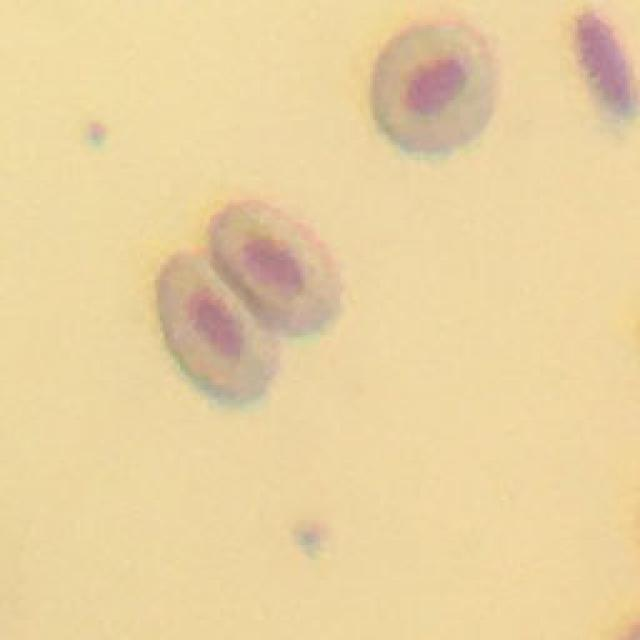RBC: (158, 255, 280, 400), (210, 200, 342, 334), (375, 25, 495, 151)
WBC: (580, 12, 632, 112)
